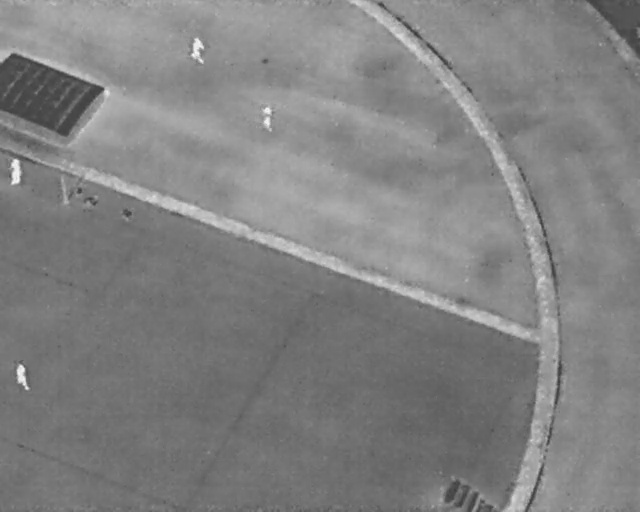Person: (187, 34, 208, 66), (13, 360, 30, 392), (6, 155, 24, 185), (259, 103, 274, 132)
